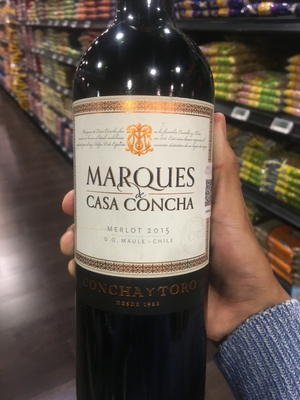marques de casa concha merlot: (65, 27, 238, 400)
